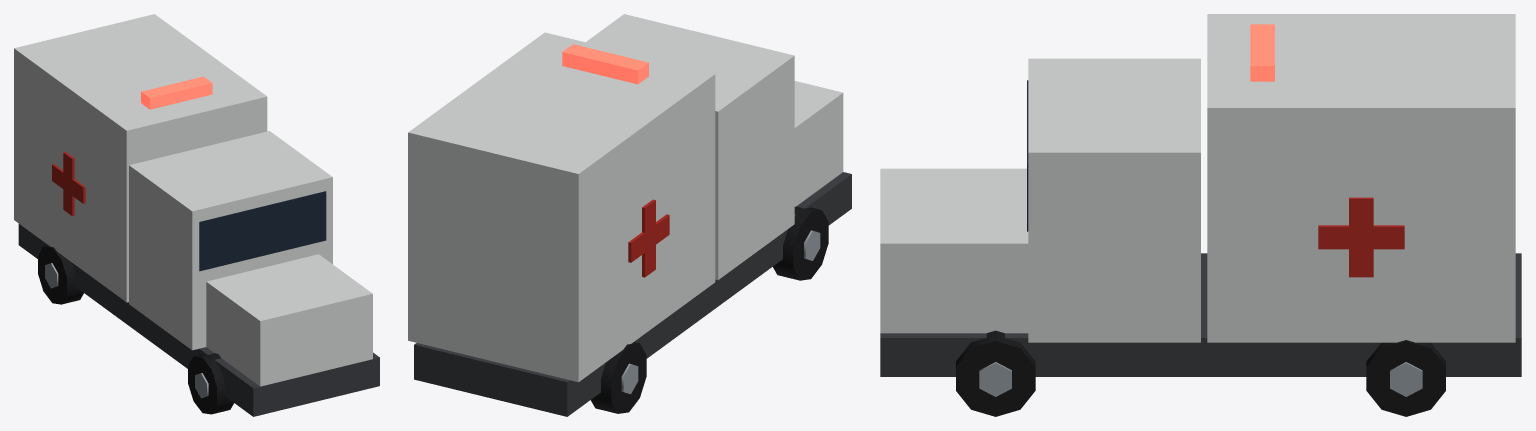
File: veh_ground_ambulance_a06.glb
3 renders of one model, left to right at view 1: azimuth 30°, elevation 25°; view 2: azimuth 150°, elevation 25°; view 3: azimuth 270°, elevation 25°, orthographic. The views are drawn at different scales.
Visible parts, largest first — view 1: body, wheel_2, wheel_0; view 2: body, wheel_2, wheel_0; view 3: body, wheel_3, wheel_1.
Part boxes in pixels (box(x1,y1,x2,y2)): body: box(14, 14, 379, 416); wheel_2: box(188, 353, 233, 414); wheel_0: box(38, 245, 83, 304); body: box(408, 14, 851, 416); wheel_2: box(773, 206, 828, 280); wheel_0: box(591, 342, 646, 413); body: box(880, 14, 1521, 376); wheel_3: box(956, 330, 1035, 416); wheel_1: box(1366, 340, 1445, 416).
Size of what is drawn, in the model's own units: 1.88 by 2.9 by 5.2.
